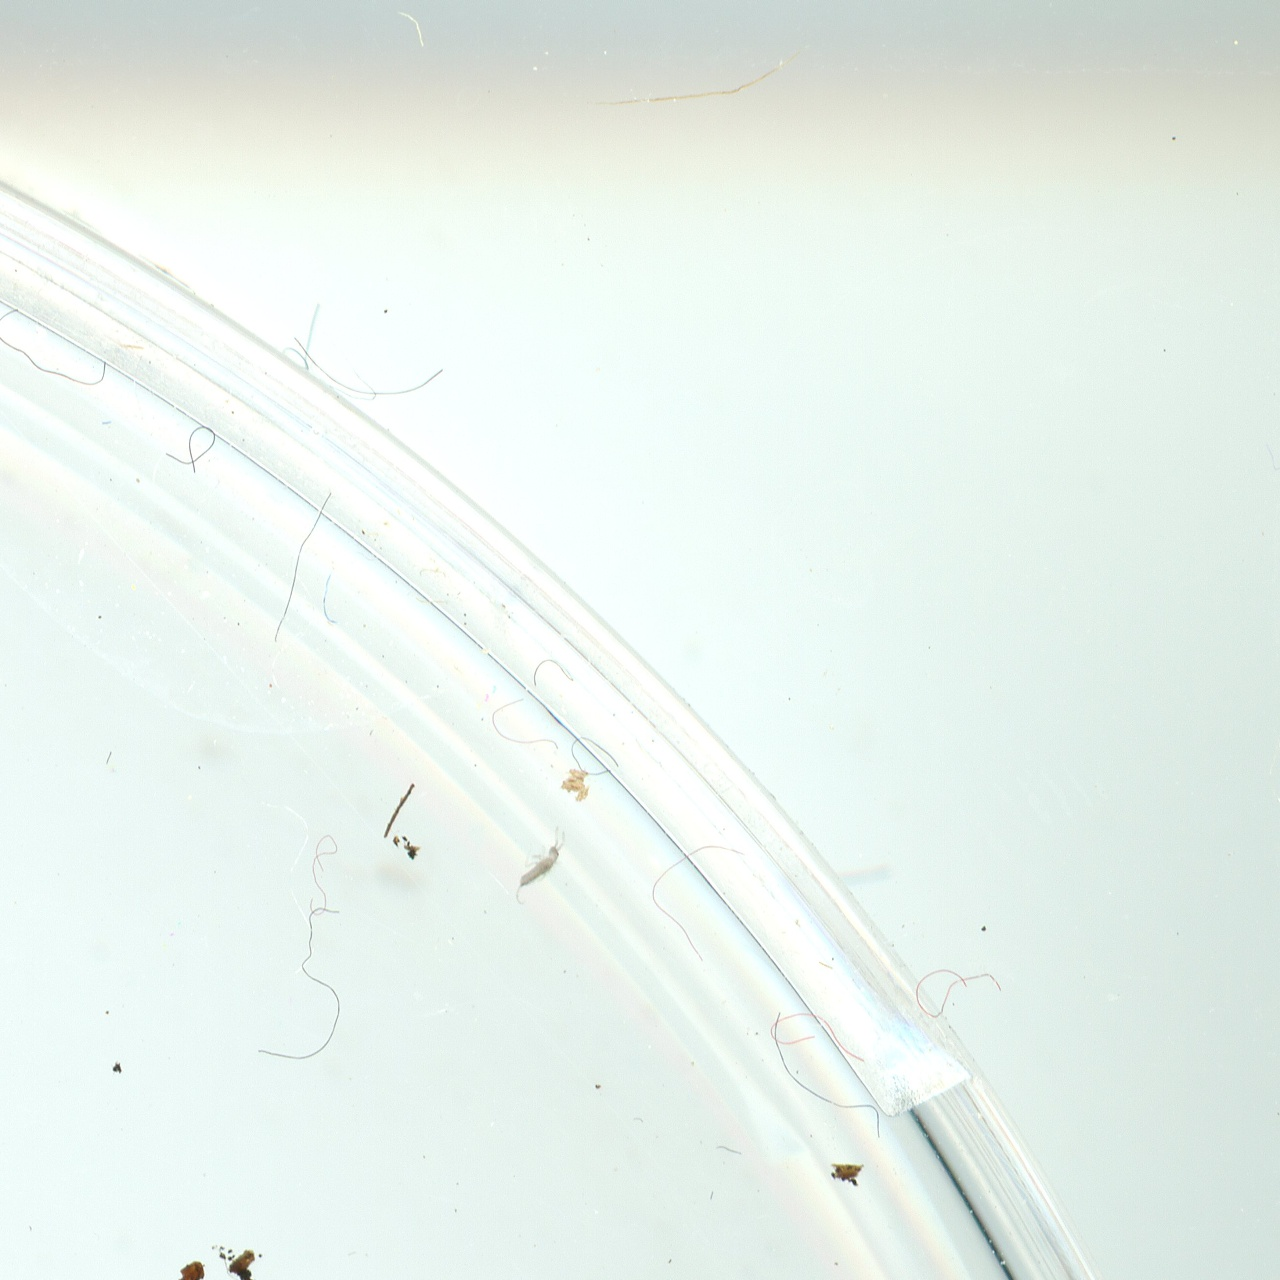arthropod: (507, 824, 571, 907)
